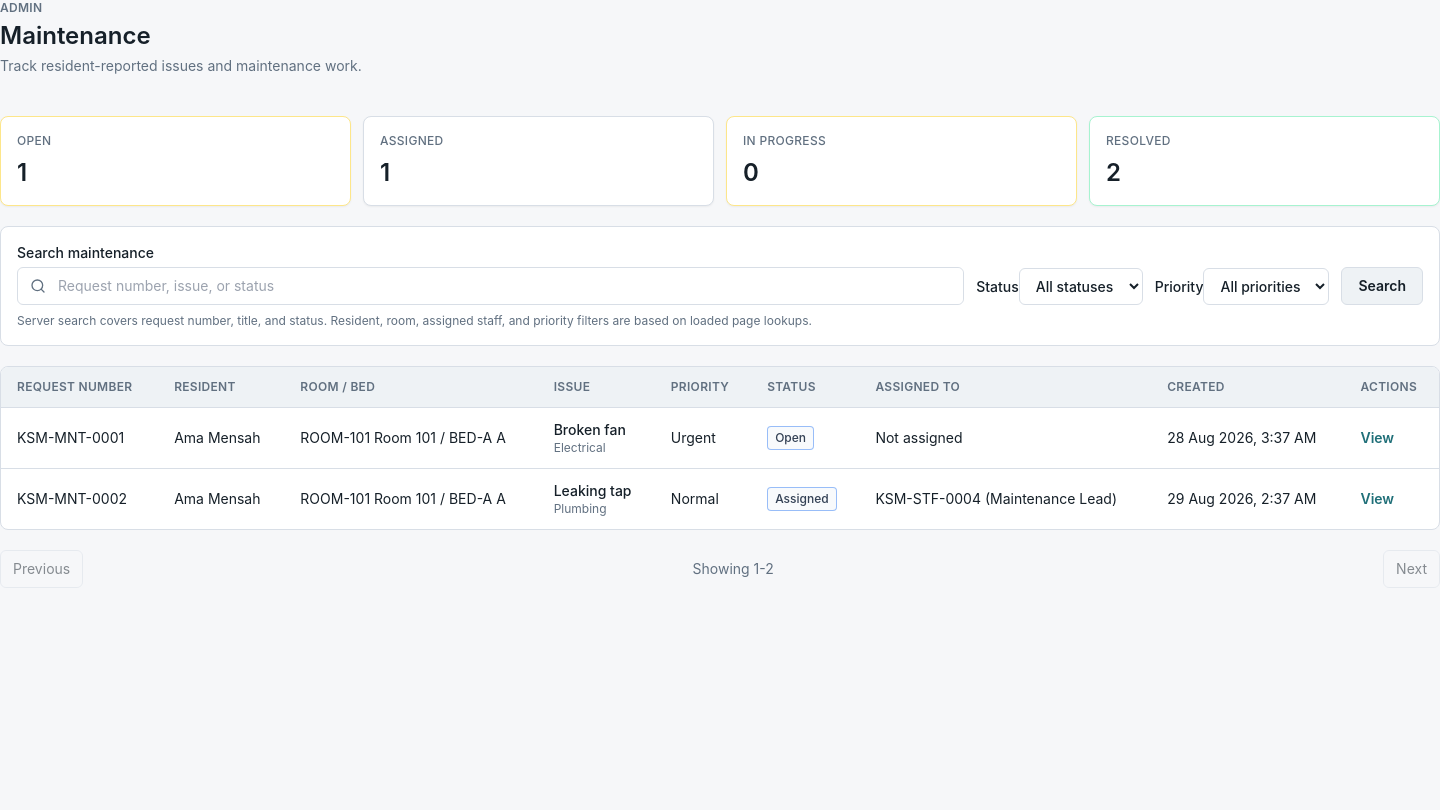
Scenario: MaintenancePage › hides write actions for roles without maintenance permissions
This screenshot has width=1440, height=810.
Expected: the text "KSM-MNT-0001" is shown, [1,408,158,468]
Click the button "View" in the row of "KSM-MNT-0001".
click(1377, 438)  # box [1360,428,1394,448]
(page scrolled)
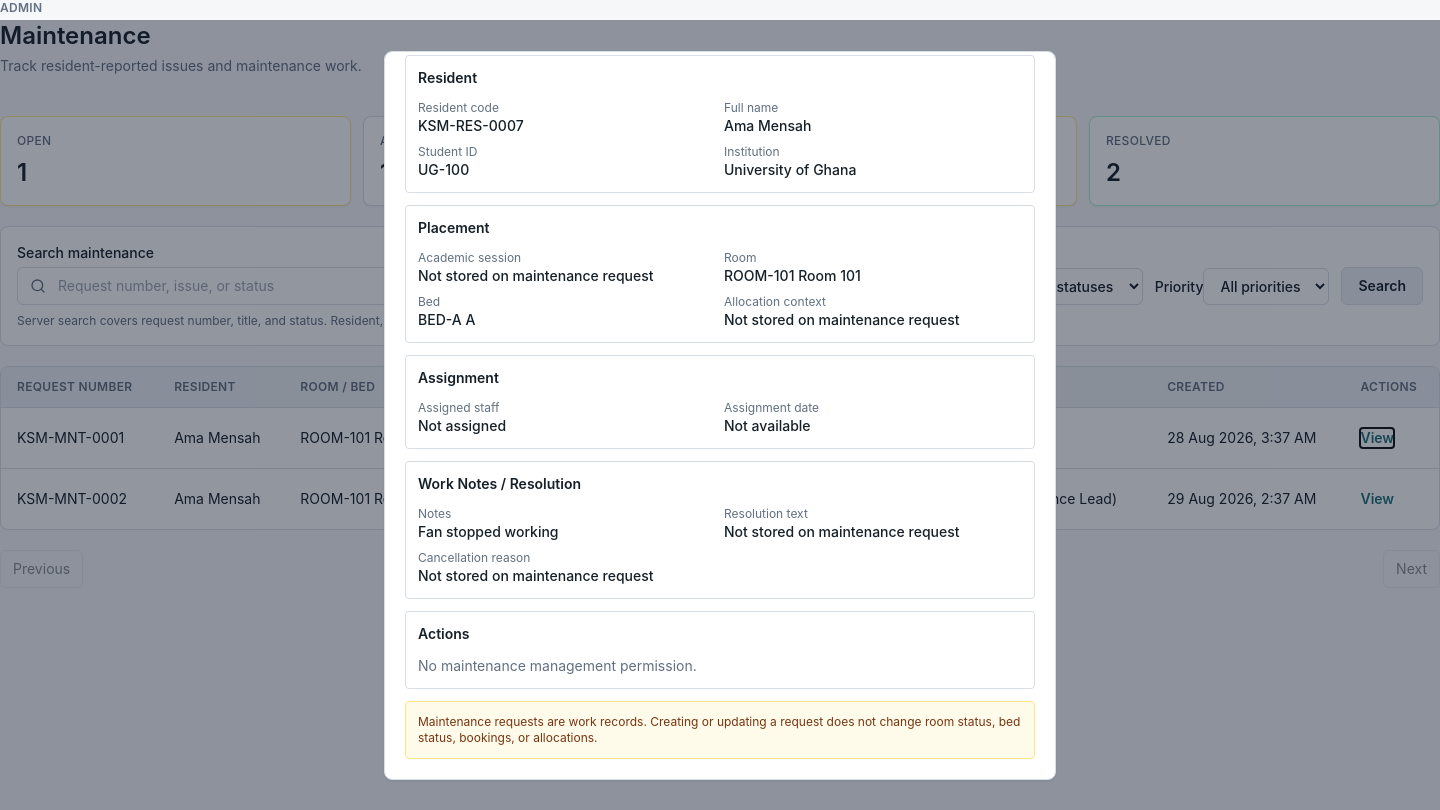
Expected: the text "No maintenance management permission." is shown, [418,656,697,674]
